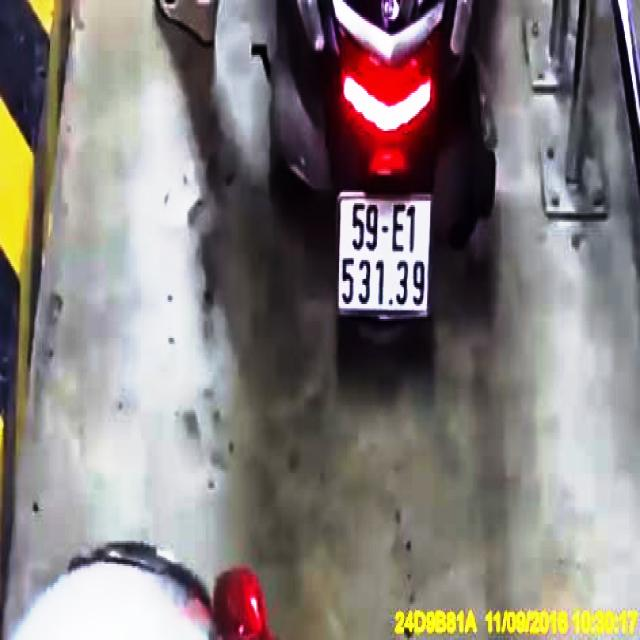license_plate: (337, 199, 433, 318)
